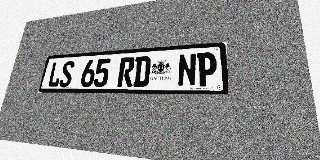5: (93, 58, 111, 87)
6: (80, 59, 97, 87)
D: (133, 56, 151, 87)
L: (47, 61, 63, 87)
N: (177, 53, 196, 87)
P: (197, 52, 217, 86)
R: (117, 57, 135, 87)
S: (58, 61, 75, 87)
